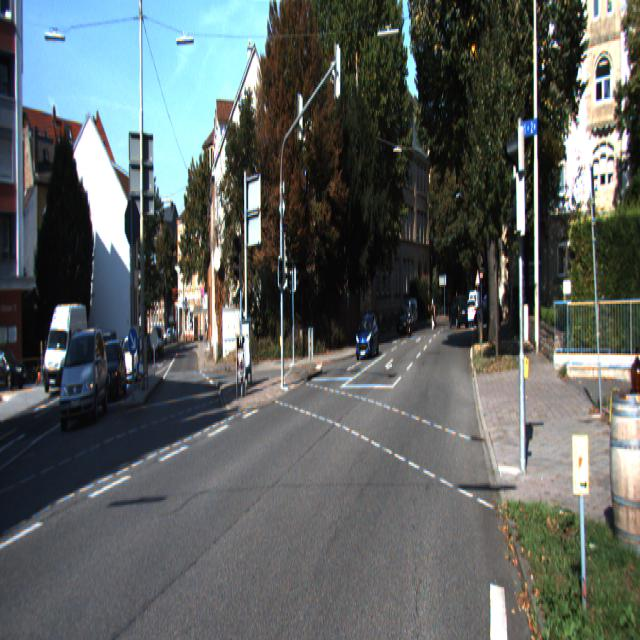Car: (60, 324, 110, 434), (44, 303, 89, 397), (91, 338, 127, 410), (355, 309, 380, 360), (406, 298, 414, 335)
